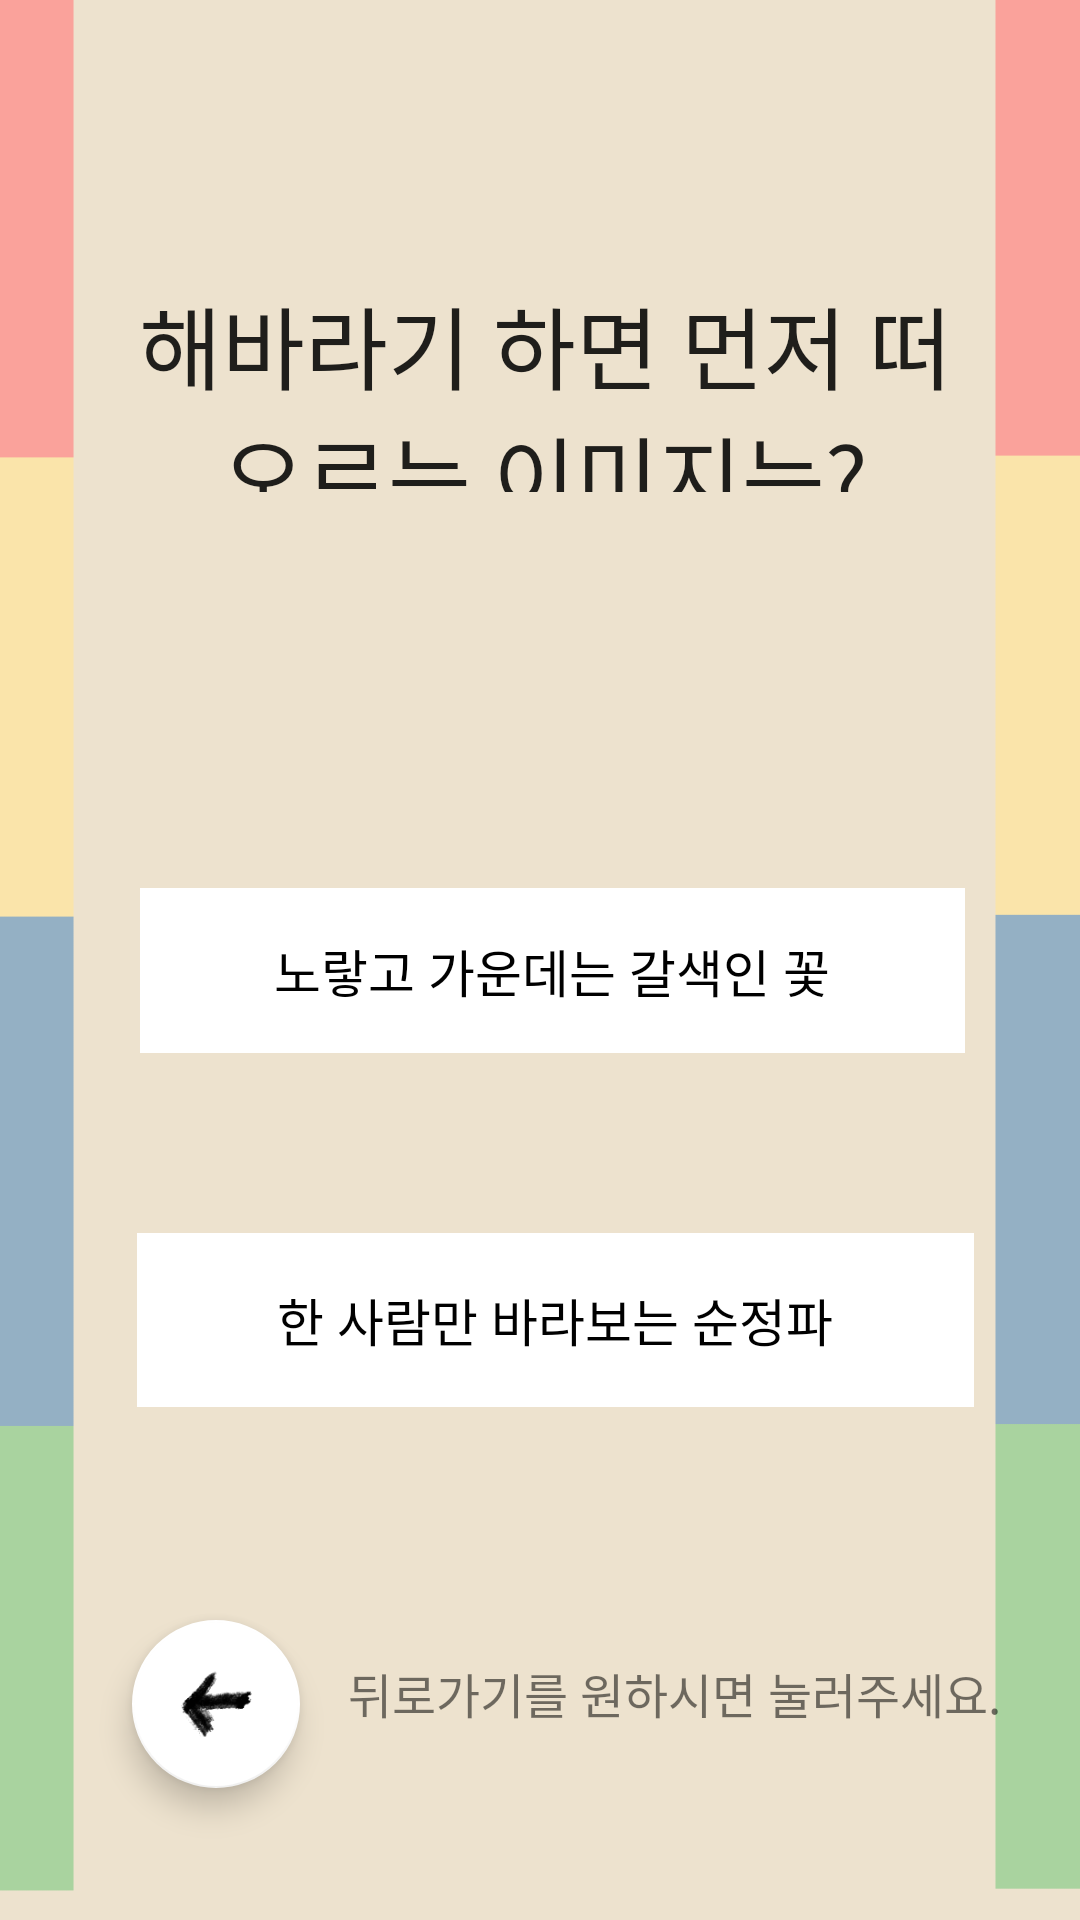

Named icons in this screenshot (1080px x 1920px) and their centers, (x=x, y=y):
back: (x=216, y=1704)
